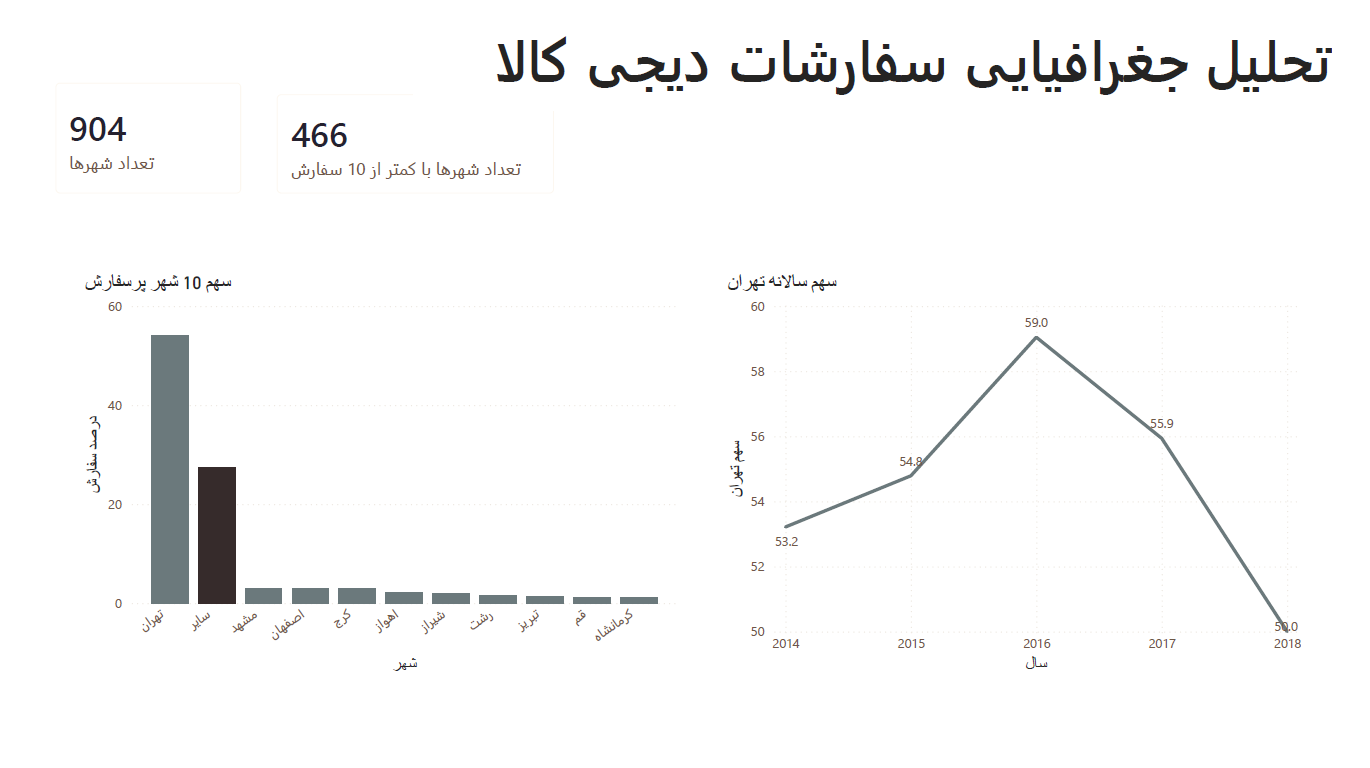

Layout of this report page (visuals, bound fields, positions):
{"tool":"powerbi","page":{"name":"تحلیل جغرافیایی","canvas":[1280,720],"ordinal":1},"visuals":[{"type":"clusteredColumnChart","title":"سهم 10 شهر پرسفارش","fields":{"Y":["Sum(city_order_share.order_pct)"],"Category":["city_order_share.city_group"]},"box":[67.2,244.3,572.2,385.6],"z":0},{"type":"lineChart","title":"سهم سالانه تهران","fields":{"Category":["tehran_share.year"],"Y":["Sum(tehran_share.tehran_share)"]},"box":[676.5,244.3,554.4,385.6],"z":1000},{"type":"cardVisual","fields":{"Data":["Count(city_analysis.city_name_fa)"]},"box":[27.4,48,209.9,138.6],"z":2000},{"type":"cardVisual","fields":{"Data":["Count(city_analysis.city_name_fa)"]},"box":[237.4,59,296.4,127.6],"z":3000},{"type":"textbox","box":[384,0,876,91],"z":4000}]}

Visuals, with their boxes in screenshot pixels (x1, y1, x2, y2), scaled from the page's 1280x720 canvas onto the 1370x768 screenshot:
"سهم 10 شهر پرسفارش" clusteredColumnChart: (left=72, top=261, right=684, bottom=672)
"سهم سالانه تهران" lineChart: (left=724, top=261, right=1317, bottom=672)
cardVisual - Count(city_analysis.city_name_fa): (left=29, top=51, right=254, bottom=199)
cardVisual - Count(city_analysis.city_name_fa): (left=254, top=63, right=571, bottom=199)
textbox: (left=411, top=0, right=1349, bottom=97)
